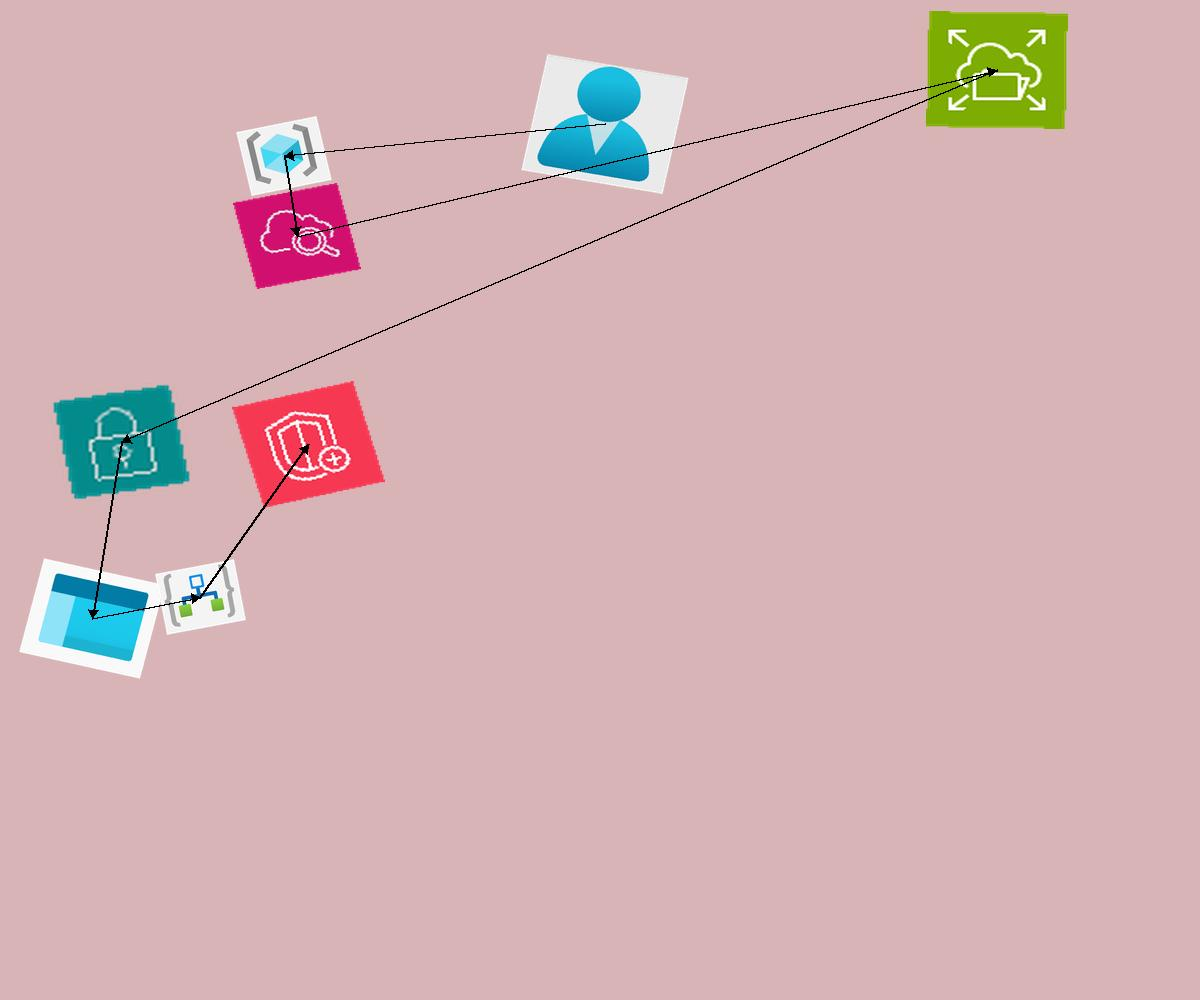AWS-CloudWatch: (233, 183, 361, 289)
AWS-EFS: (926, 11, 1068, 129)
AWS-Private-subnet: (51, 383, 192, 501)
AWS-Shield: (232, 381, 385, 508)
Azure_integration-204-Logic-Apps: (155, 559, 246, 635)
Azure_management-portal: (19, 558, 165, 679)
Azure_resource_group: (236, 116, 332, 196)
Azure_users: (521, 54, 689, 194)
